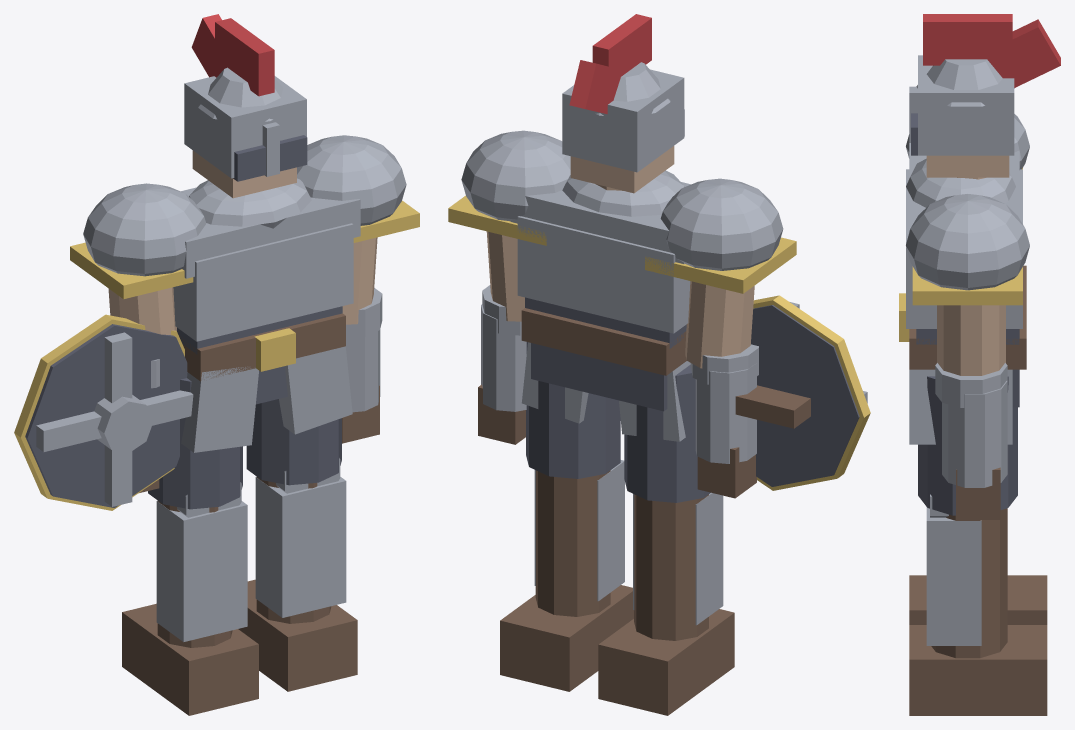
File: warrior.glb
The picture shows the model from 3 angles, left to right: view 1: azimuth 30°, elevation 25°; view 2: azimuth 150°, elevation 25°; view 3: azimuth 270°, elevation 25°; orthographic projection. The views are drawn at different scales.
Visible parts, largest first — view 1: ArmL, LegL, LegR, Torso, Head, Pelvis, ArmR; view 2: ArmL, LegL, LegR, Torso, ArmR, Head, Pelvis; view 3: ArmR, LegR, Head, Torso, Pelvis, LegL, ArmL.
Boxes of the visible parts, x1,y1,x2,y2 form: ArmL: (14,183,206,510); LegL: (122,378,258,715); LegR: (238,399,357,691); Torso: (173,178,360,354); Head: (184,14,307,198); Pelvis: (179,313,352,452); ArmR: (297,135,419,443); ArmL: (645,178,870,498); LegL: (598,365,734,715); LegR: (500,342,633,691); Torso: (510,170,690,348); ArmR: (448,130,570,444); Head: (562,14,684,193); Pelvis: (521,308,690,441); ArmR: (906,194,1029,519); LegR: (909,376,1047,715); Head: (909,14,1060,177); Torso: (906,143,1022,344); Pelvis: (899,265,1026,444); LegL: (909,575,1047,624); ArmL: (906,114,1029,169).
Bounding box in the file's own units: 1.34 × 2.1 × 0.47.
